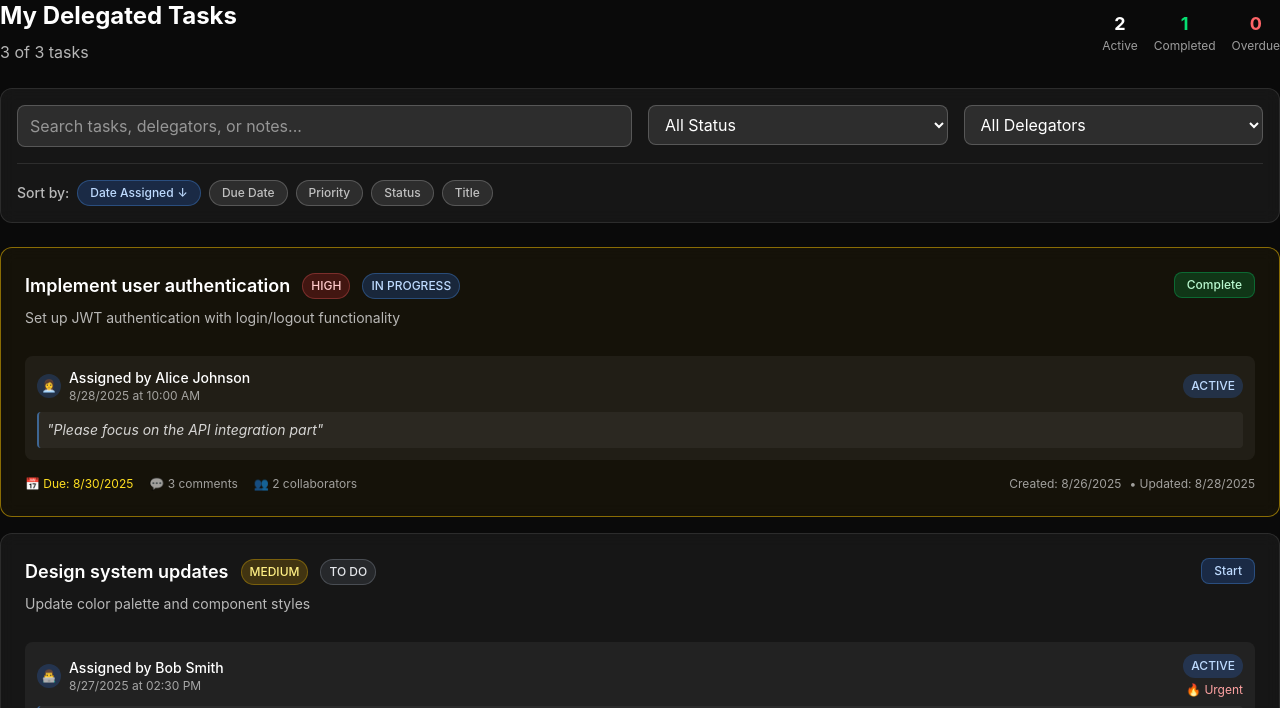
Test case: DelegatedTasksView › Filtering › filters tasks by delegator
Select "Alice Johnson" in the 2nd dropdown showing "All Delegators" at (1113, 125), box [964,105,1263,145]
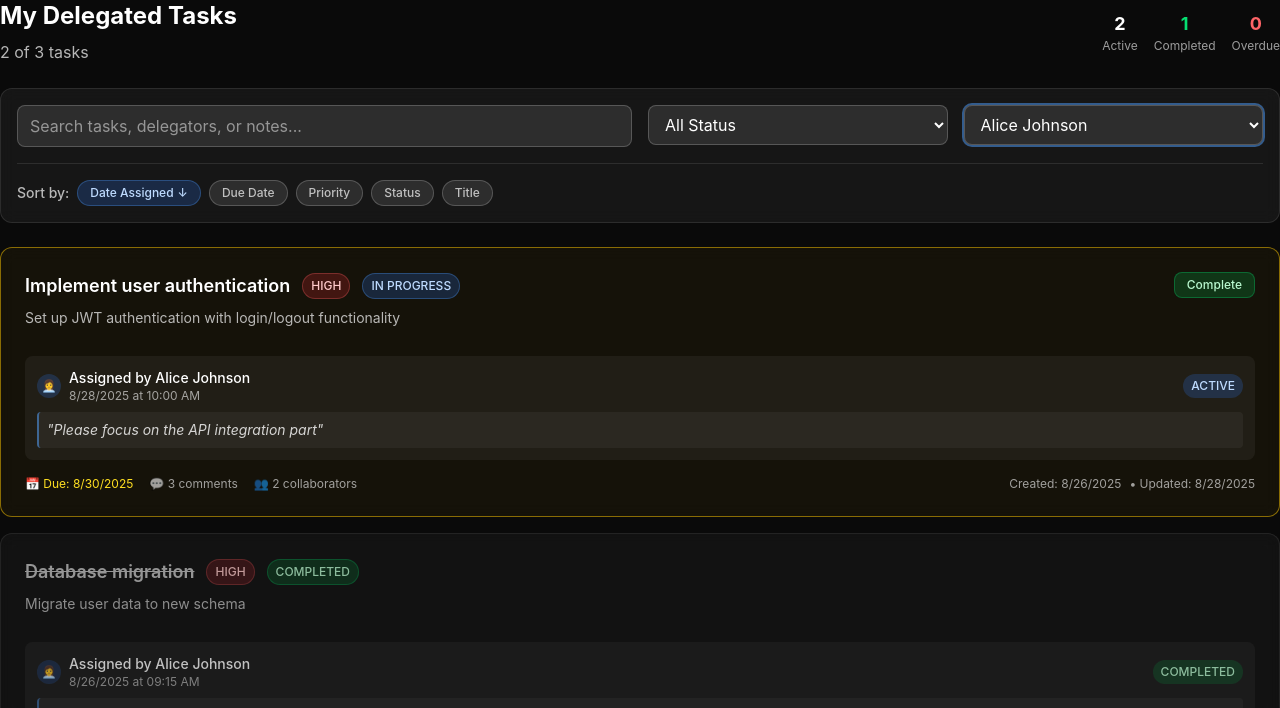
Expected: the heading "Implement user authentication" is shown, [25,272,290,300]
Now the heading "Database migration" is shown, box [25,558,194,586]
Now the heading "Design system updates" is gone
